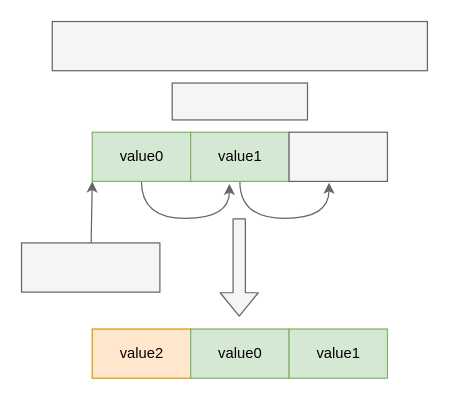
Image size: 449x400. Some labels were removed from this diagram. The centre of each missing label's shape, as x and y in pixels:
"push_front()" goes at (x=239, y=101).
"push_front(value2)" goes at (x=90, y=267).
"std::vector::push_front()" goes at (x=239, y=45).
